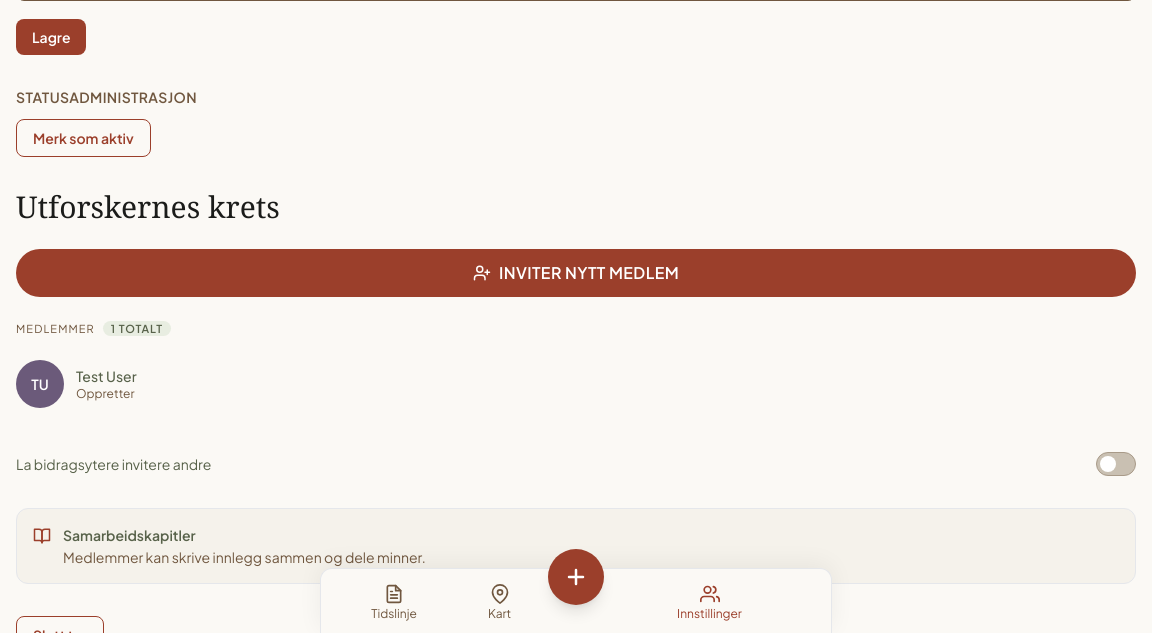
it: MemberManagement (inside TripSettingsScreen) › focusing the invite field shows suggestion list when API returns matches
(page scrolled)
What coordinates should you click on to do the following:
click the button "INVITER NYTT MEDLEM"
I would click on:
 (576, 273)
Its box is left=16, top=249, right=1136, bottom=297.
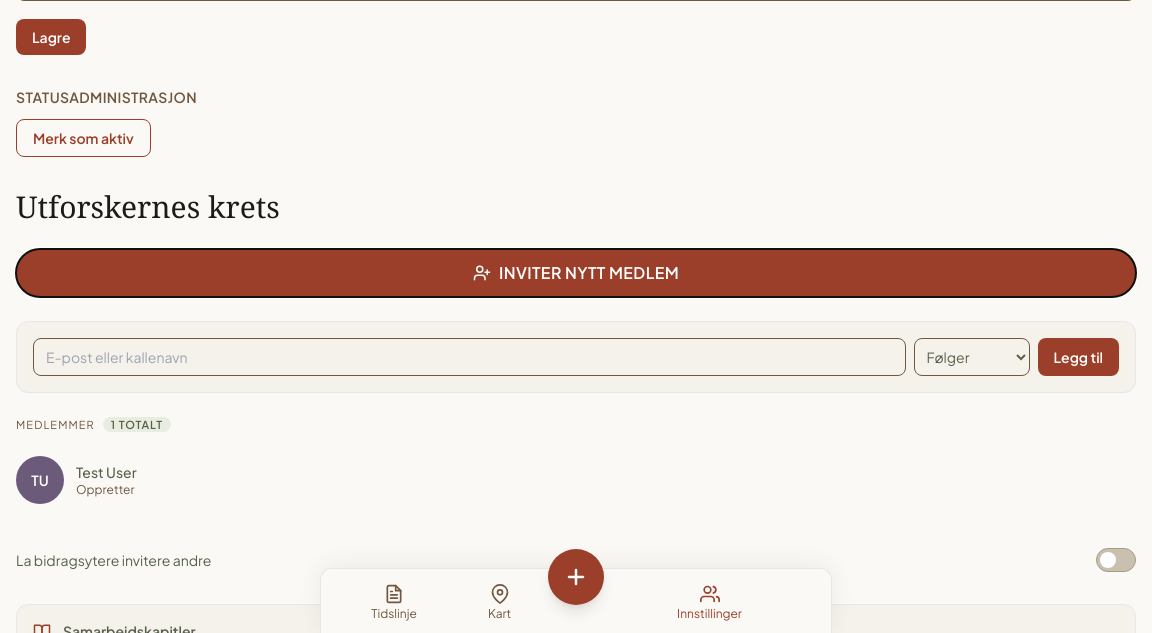
What coordinates should you click on to do the following:
click the field with placeholder "E-post eller kallenavn"
I would click on:
 (469, 357)
Its box is left=33, top=338, right=906, bottom=376.
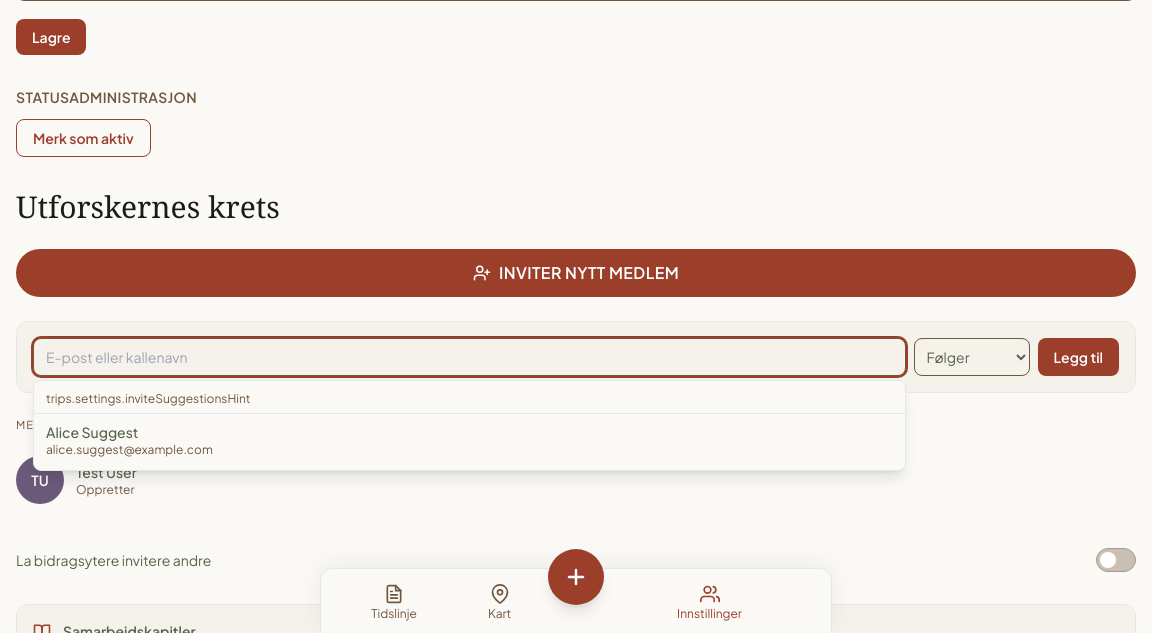
Check: the option "Alice Suggest alice.suggest@example.com" is shown
What coordinates should you click on to do the following:
click the option "Alice Suggest alice.suggest@example.com"
I would click on:
 (92, 432)
Its box is left=34, top=414, right=904, bottom=466.
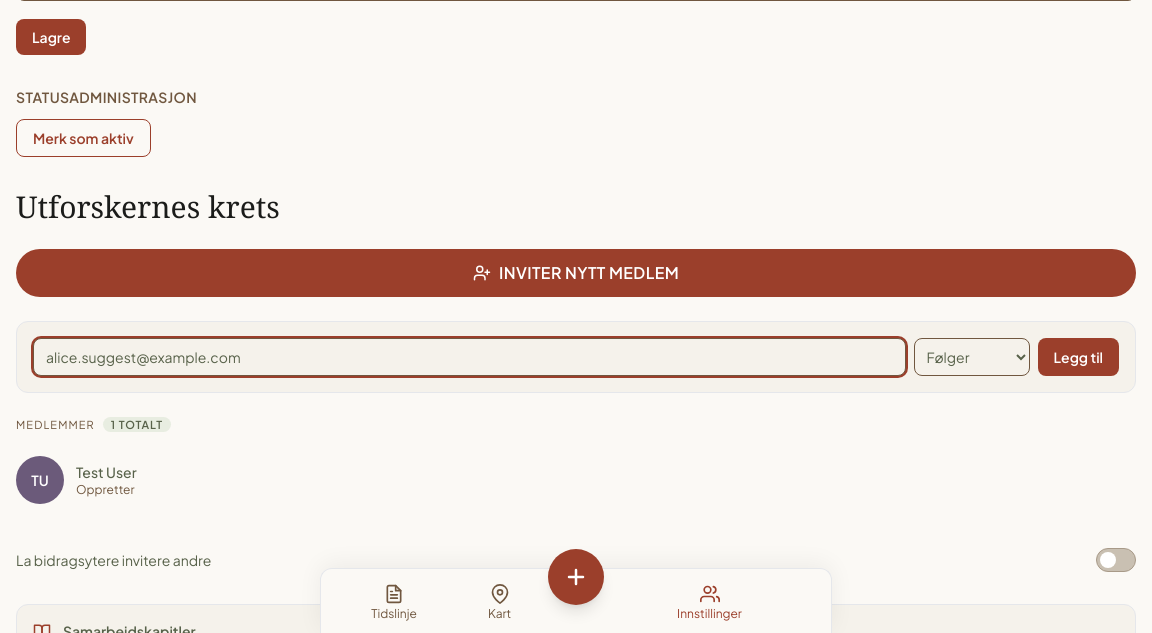
Check: the field with placeholder "E-post eller kallenavn" holds "alice.suggest@example.com", box left=33, top=338, right=906, bottom=376
